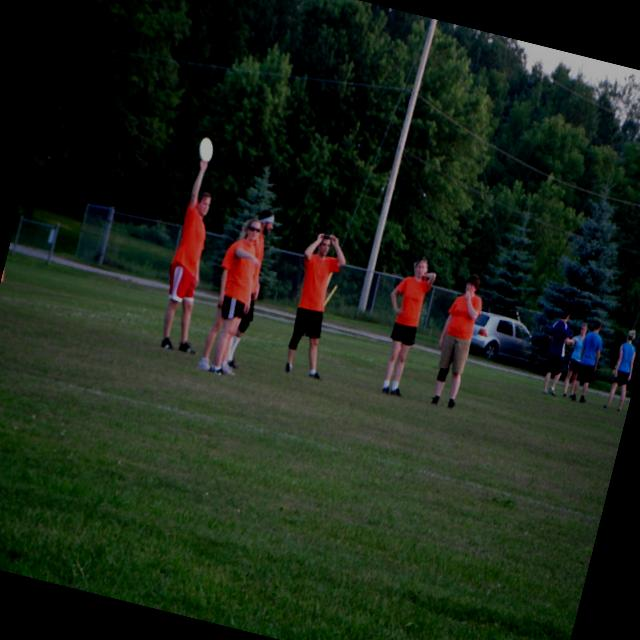Vehicle: (466, 308, 538, 372)
